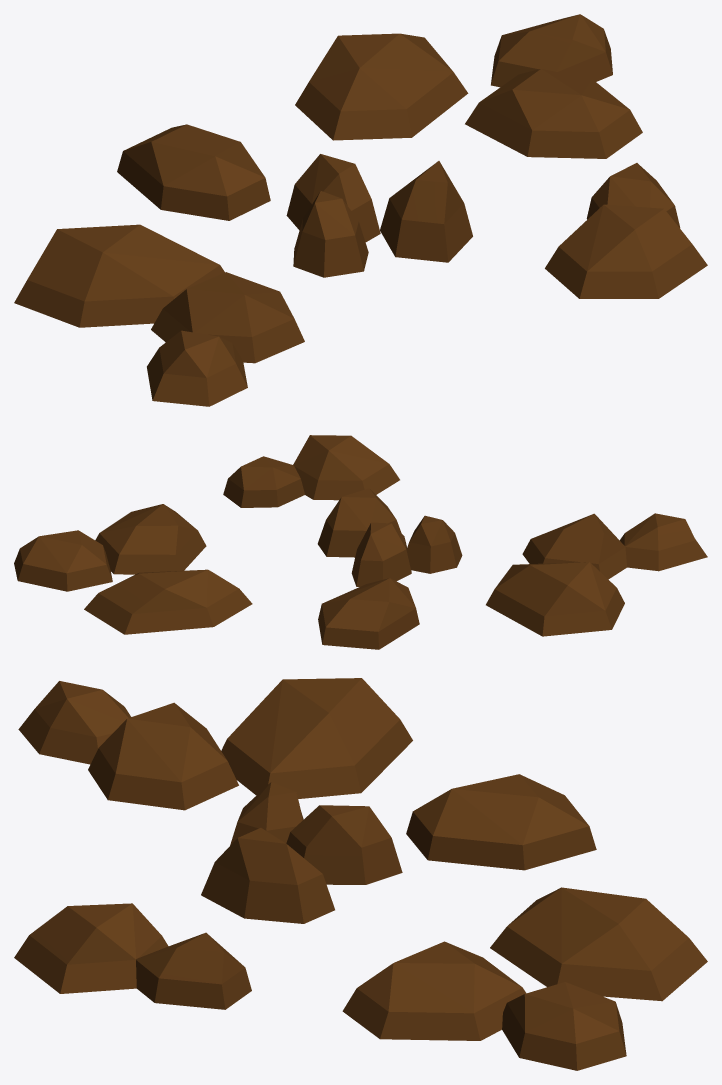
File: rock__pebbles2_dirt_dark.glb
3 views of the same model, one above another, from view 1: azimuth 30°, elevation 25°; view 2: azimuth 150°, elevation 25°; view 3: azimuth 270°, elevation 25° (orthographic). The views are drawn at different scales.
Parts seen in each view (by area): view 1: pebbles2.dirt.dark; view 2: pebbles2.dirt.dark; view 3: pebbles2.dirt.dark.
Boxes of the visible parts, x1,y1,x2,y2 form: pebbles2.dirt.dark: [14, 14, 707, 406]; pebbles2.dirt.dark: [14, 435, 707, 649]; pebbles2.dirt.dark: [14, 678, 707, 1070].
Size of the model in its own units: 2.23 by 0.1965 by 1.81.
1 material, 1 textured.
